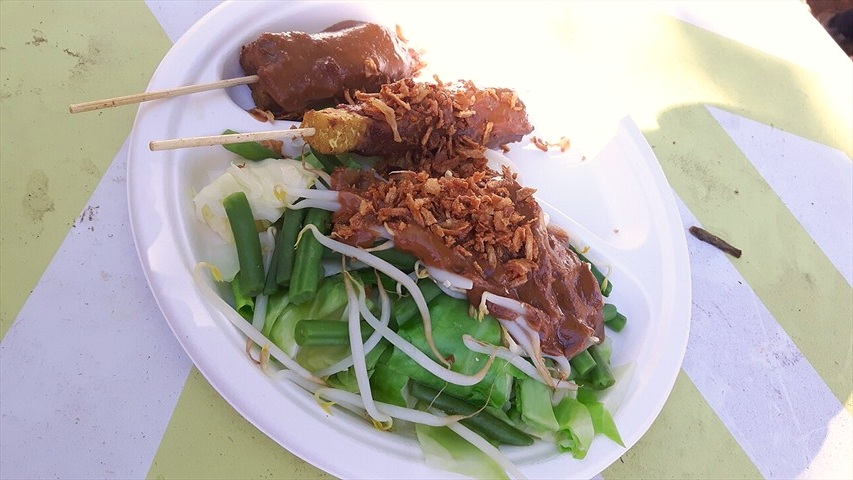Gado-Gado: (221, 51, 627, 433)
